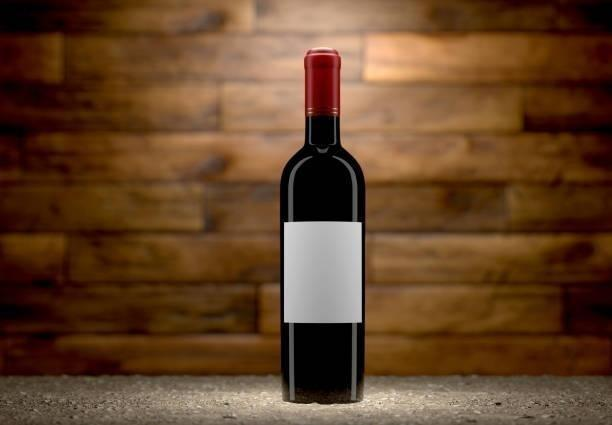bottle-glass: (275, 44, 371, 408)
